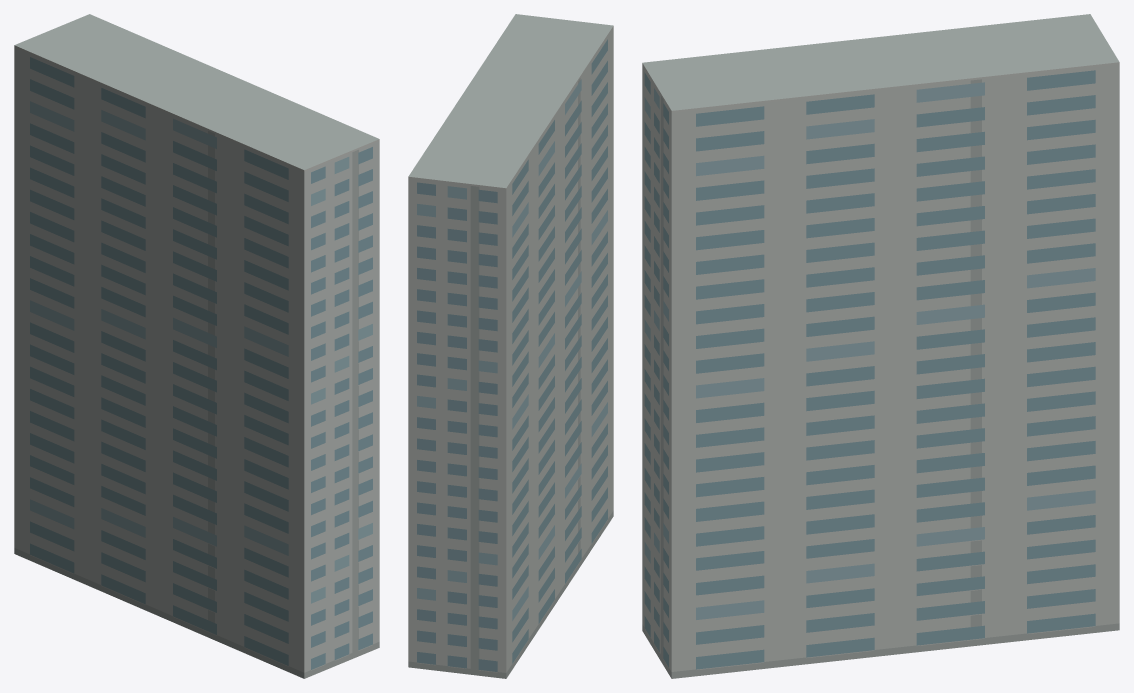
The model's file is residential-a7f298f1-7c2b-44be-be15-1c8d813f2444.glb.
3 renders of one model, left to right at view 1: azimuth 30°, elevation 25°; view 2: azimuth 150°, elevation 25°; view 3: azimuth 270°, elevation 25°, orthographic. The views are drawn at different scales.
Visible parts, largest first — view 1: residential-a7f298f1-7c2b-44be-be15-1c8d813f2444.tmp; view 2: residential-a7f298f1-7c2b-44be-be15-1c8d813f2444.tmp; view 3: residential-a7f298f1-7c2b-44be-be15-1c8d813f2444.tmp.
Part boxes in pixels (<box>): residential-a7f298f1-7c2b-44be-be15-1c8d813f2444.tmp: <box>14,14,379,678</box>; residential-a7f298f1-7c2b-44be-be15-1c8d813f2444.tmp: <box>408,14,613,678</box>; residential-a7f298f1-7c2b-44be-be15-1c8d813f2444.tmp: <box>642,14,1119,678</box>.
Bounding box in the file's own units: 24.16 × 66 × 50.28.
